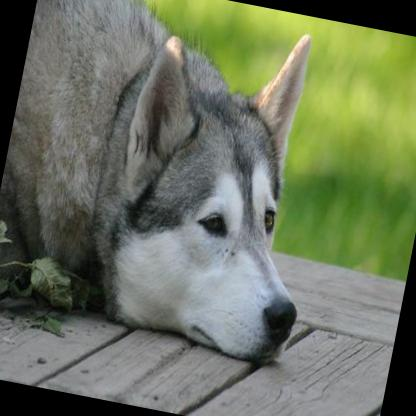Eskimo_dog: (0, 0, 355, 378)
